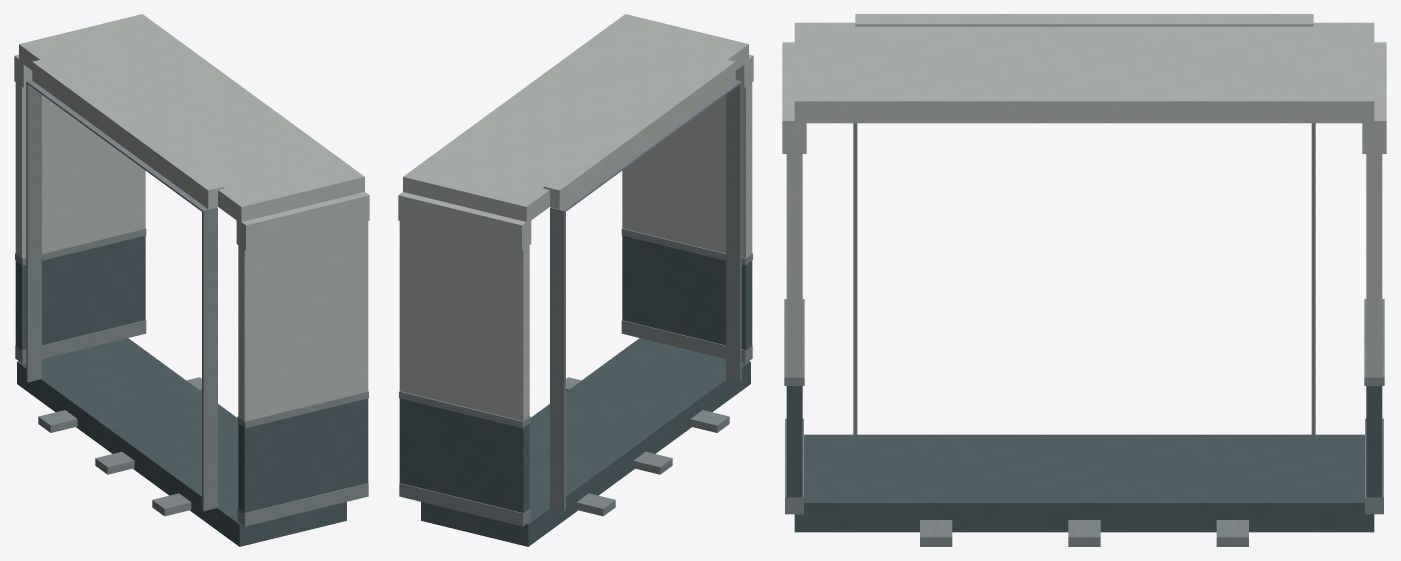
File: AUTHORING_COMPONENTS_r002.glb
The picture shows the model from 3 angles, left to right: view 1: azimuth 30°, elevation 25°; view 2: azimuth 150°, elevation 25°; view 3: azimuth 270°, elevation 25°; orthographic projection. The views are drawn at different scales.
Parts seen in each view (by area): view 1: ARRS_SourceJoinedCanopy, ARRS_SouthSide_Enamel, ARRS_ReceivingFloor, ARRS_NorthSide_Enamel, ARRS_SouthSide_Dado, ARRS_NorthSide_Dado, ARRS_StaffPortalHeader, ARRS_StaffGatewaySouthJamb, ARRS_StaffGatewayNorthJamb, ARRS_SouthSide_Cove, ARRS_SouthSide_Toe, ARRS_NorthSide_Toe (+6 smaller); view 2: ARRS_SourceJoinedCanopy, ARRS_NorthSide_Enamel, ARRS_ReceivingFloor, ARRS_SouthSide_Enamel, ARRS_NorthSide_Dado, ARRS_SouthSide_Dado, ARRS_StaffPortalHeader, ARRS_StaffGatewayNorthJamb, ARRS_StaffGatewaySouthJamb, ARRS_NorthSide_Cove, ARRS_NorthSide_Toe, ARRS_SouthSide_Toe (+6 smaller); view 3: ARRS_SourceJoinedCanopy, ARRS_ReceivingFloor, ARRS_StaffPortalHeader, ARRS_NorthSide_Enamel, ARRS_SouthSide_Enamel, ARRS_NorthSide_Dado, ARRS_SouthSide_Dado, ARRS_SouthSide_Cove, ARRS_NorthSide_Cove, ARRS_StaffGatewayNorthJamb, ARRS_StaffGatewaySouthJamb, ARRS_ArrivalsEmbeddedTie0 (+2 smaller).
Boxes of the visible parts, x1,y1,x2,y2 form: ARRS_SourceJoinedCanopy: (19, 14, 364, 222); ARRS_SouthSide_Enamel: (238, 221, 368, 421); ARRS_ReceivingFloor: (17, 338, 346, 546); ARRS_NorthSide_Enamel: (15, 82, 145, 258); ARRS_SouthSide_Dado: (238, 398, 368, 512); ARRS_NorthSide_Dado: (15, 235, 145, 350); ARRS_StaffPortalHeader: (32, 58, 224, 209); ARRS_StaffGatewaySouthJamb: (202, 207, 217, 511); ARRS_StaffGatewayNorthJamb: (26, 80, 41, 382); ARRS_SouthSide_Cove: (236, 192, 369, 250); ARRS_SouthSide_Toe: (237, 483, 368, 526); ARRS_NorthSide_Toe: (15, 320, 146, 363); ARRS_SourceJoinedCanopy: (403, 14, 748, 223); ARRS_NorthSide_Enamel: (399, 221, 529, 421); ARRS_ReceivingFloor: (421, 338, 750, 546); ARRS_SouthSide_Enamel: (622, 82, 752, 258); ARRS_NorthSide_Dado: (399, 398, 529, 512); ARRS_SouthSide_Dado: (622, 235, 752, 350); ARRS_StaffPortalHeader: (543, 58, 735, 209); ARRS_StaffGatewayNorthJamb: (550, 207, 565, 511); ARRS_StaffGatewaySouthJamb: (726, 80, 741, 382); ARRS_NorthSide_Cove: (398, 192, 531, 250); ARRS_NorthSide_Toe: (399, 483, 530, 526); ARRS_SouthSide_Toe: (621, 320, 752, 363); ARRS_SourceJoinedCanopy: (794, 22, 1374, 123); ARRS_ReceivingFloor: (794, 434, 1374, 532); ARRS_StaffPortalHeader: (855, 14, 1313, 26); ARRS_NorthSide_Enamel: (1366, 154, 1382, 377); ARRS_SouthSide_Enamel: (786, 154, 802, 377); ARRS_NorthSide_Dado: (1366, 386, 1382, 497); ARRS_SouthSide_Dado: (786, 386, 802, 497); ARRS_SouthSide_Cove: (782, 42, 806, 153); ARRS_NorthSide_Cove: (1362, 42, 1386, 153); ARRS_StaffGatewayNorthJamb: (1311, 123, 1315, 435); ARRS_StaffGatewaySouthJamb: (853, 123, 857, 435); ARRS_ArrivalsEmbeddedTie0: (1216, 520, 1248, 546).
Bounding box in the file's own units: 1.8 × 3.64 × 4.48.
6 materials, 5 textured.
